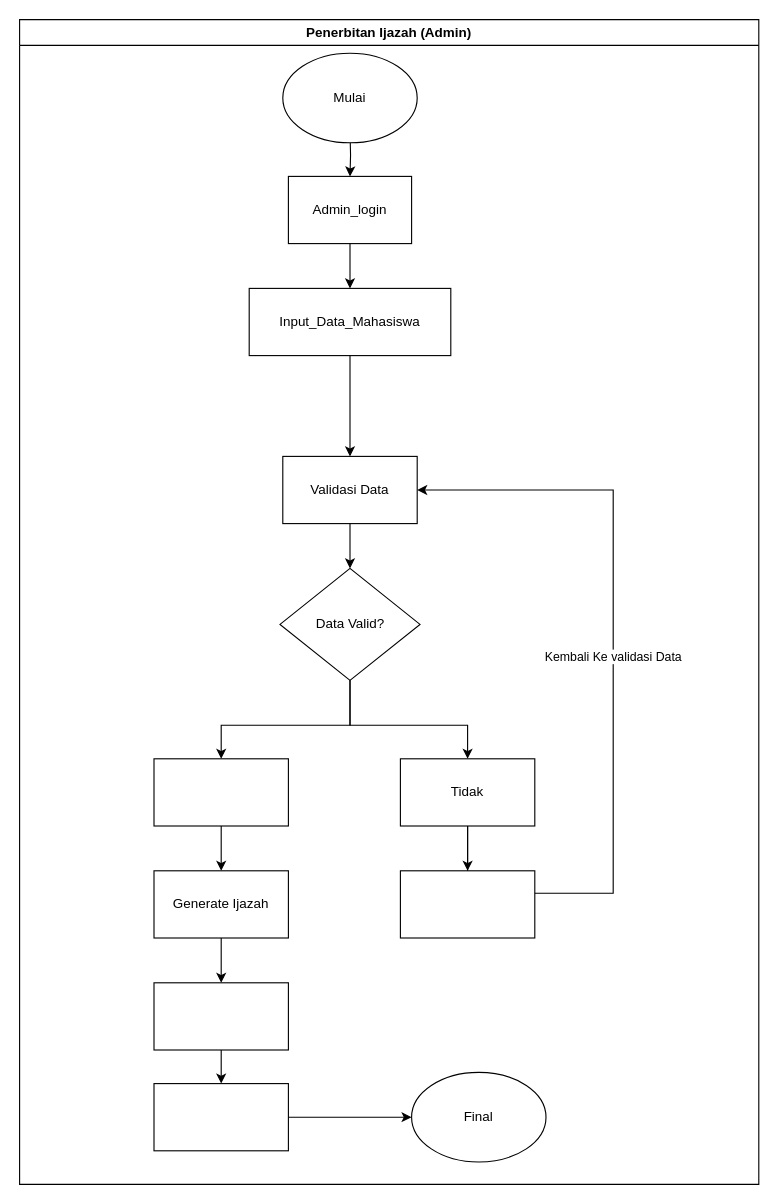
The diagram is 778 pixels wide and 1204 high, and some of its shapes have lost their labels. The shapes that lost their labels are listed below. From the top down, each one's centre as x and y in pixels, then its label:
At point (220, 792): "YA".
At point (467, 904): "Perbaiki Data".
At point (220, 1016): "Simpan ke Database".
At point (220, 1116): "Terbitkan Ijazah".
